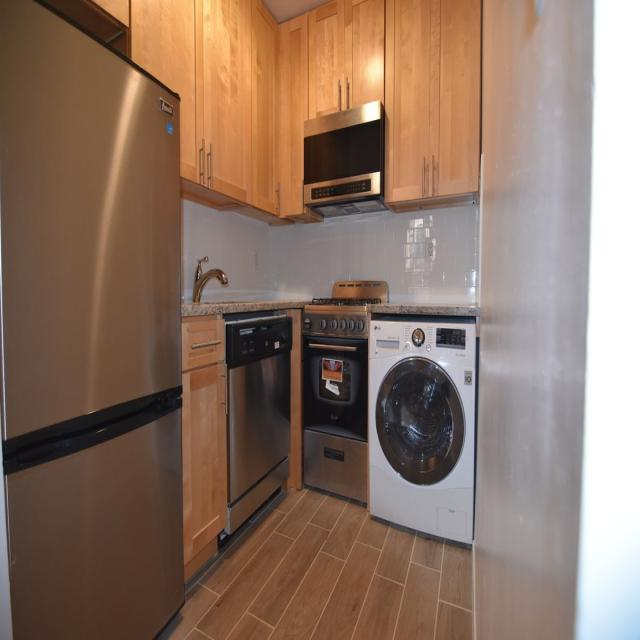dishwasher: (222, 306, 294, 540)
